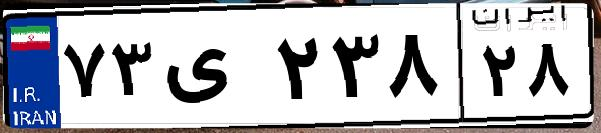2: (270, 28, 330, 110), (475, 38, 525, 113)
3: (330, 28, 385, 110), (110, 28, 158, 98)
7: (57, 26, 110, 100)
8: (385, 28, 445, 110), (525, 38, 570, 115)
ی: (158, 20, 270, 120)
